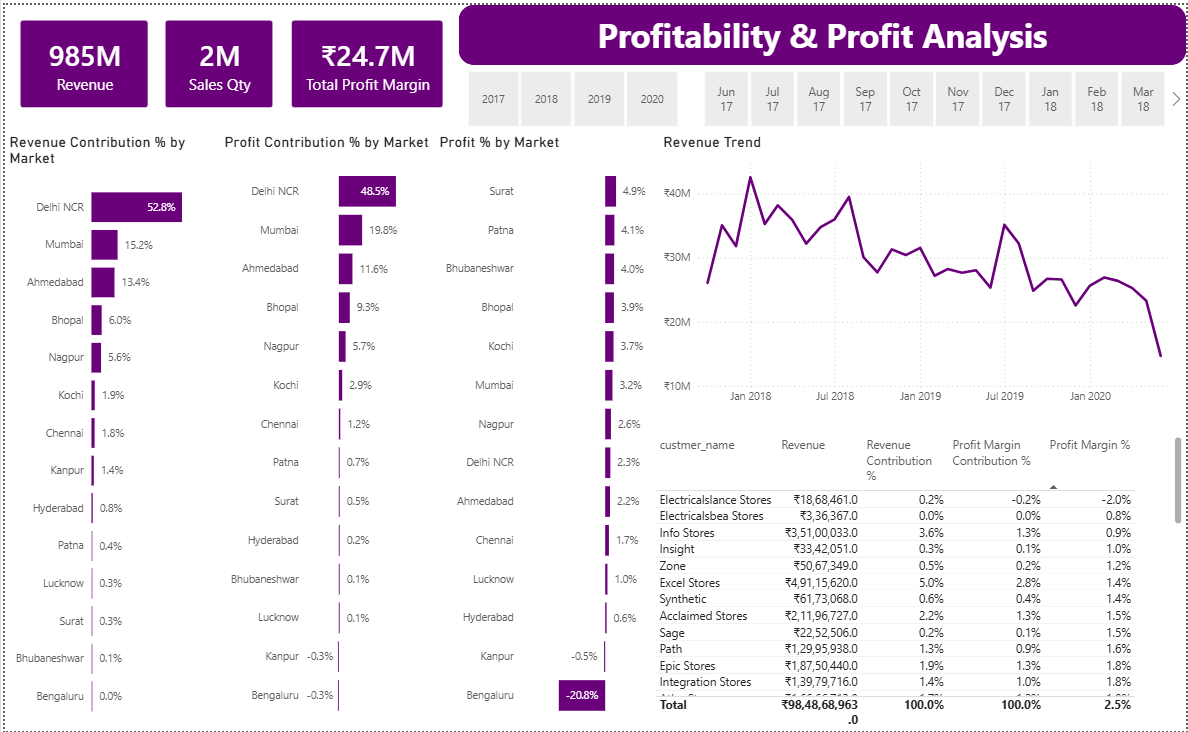

Layout of this report page (visuals, bound fields, positions):
{"tool":"powerbi","page":{"name":"Profit Analysis","canvas":[1350,830],"ordinal":1},"visuals":[{"type":"cardVisual","fields":{"Data":["BaseMeasures.Revenue"]},"box":[0,0,181.4,135.7],"z":0},{"type":"cardVisual","fields":{"Data":["BaseMeasures.Sales Qty"]},"box":[165.7,0,158.6,135.7],"z":1000},{"type":"barChart","title":"Profit % by Market","fields":{"Y":["BaseMeasures.Profit Margin %"],"Category":["sales markets.markets_name"]},"box":[491.4,145.7,245.7,684.3],"z":2000},{"type":"barChart","title":"Profit Contribution % by Market","fields":{"Y":["BaseMeasures.Profit Margin Contribution %"],"Category":["sales markets.markets_name"]},"box":[245.7,145.7,245.7,684.3],"z":3000},{"type":"slicer","fields":{"Values":["sales date.year"]},"box":[502.9,68.6,290,77.1],"z":4000},{"type":"slicer","fields":{"Values":["sales date.cy_date"]},"box":[772.9,68.6,577.1,77.1],"z":5000},{"type":"tableEx","title":"Top 5 Customers","fields":{"Values":["sales customers.custmer_name","BaseMeasures.Revenue","BaseMeasures.Revenue Contribution %","BaseMeasures.Profit Margin Contribution %","BaseMeasures.Profit Margin %"]},"box":[737.1,488.6,612.9,341.4],"z":6000},{"type":"lineChart","title":"Revenue Trend","fields":{"Y":["BaseMeasures.Revenue"],"Category":["sales date.cy_date.Variation.Date Hierarchy.Year"]},"box":[747.1,145.7,602.9,320],"z":7000},{"type":"shape","box":[518.6,0,831.4,68.6],"z":8000},{"type":"cardVisual","fields":{"Data":["BaseMeasures.Total Profit Margin"]},"box":[310,0,208.6,135.7],"z":9000},{"type":"barChart","title":"Revenue Contribution % by Market","fields":{"Y":["BaseMeasures.Revenue Contribution %"],"Category":["sales markets.markets_name"]},"box":[0,145.7,247.1,684.3],"z":10000}]}

Visuals, with their boxes in screenshot pixels (x1, y1, x2, y2), scaled from the page's 1350x830 canvas onto the 1188x732 screenshot:
cardVisual - BaseMeasures.Revenue: left=0, top=0, right=160, bottom=120
cardVisual - BaseMeasures.Sales Qty: left=146, top=0, right=285, bottom=120
"Profit % by Market" barChart: left=432, top=128, right=649, bottom=731
"Profit Contribution % by Market" barChart: left=216, top=128, right=432, bottom=731
slicer - sales date.year: left=443, top=61, right=698, bottom=128
slicer - sales date.cy_date: left=680, top=61, right=1187, bottom=128
"Top 5 Customers" tableEx: left=649, top=431, right=1187, bottom=731
"Revenue Trend" lineChart: left=657, top=128, right=1187, bottom=411
shape: left=456, top=0, right=1187, bottom=61
cardVisual - BaseMeasures.Total Profit Margin: left=273, top=0, right=456, bottom=120
"Revenue Contribution % by Market" barChart: left=0, top=128, right=217, bottom=731
